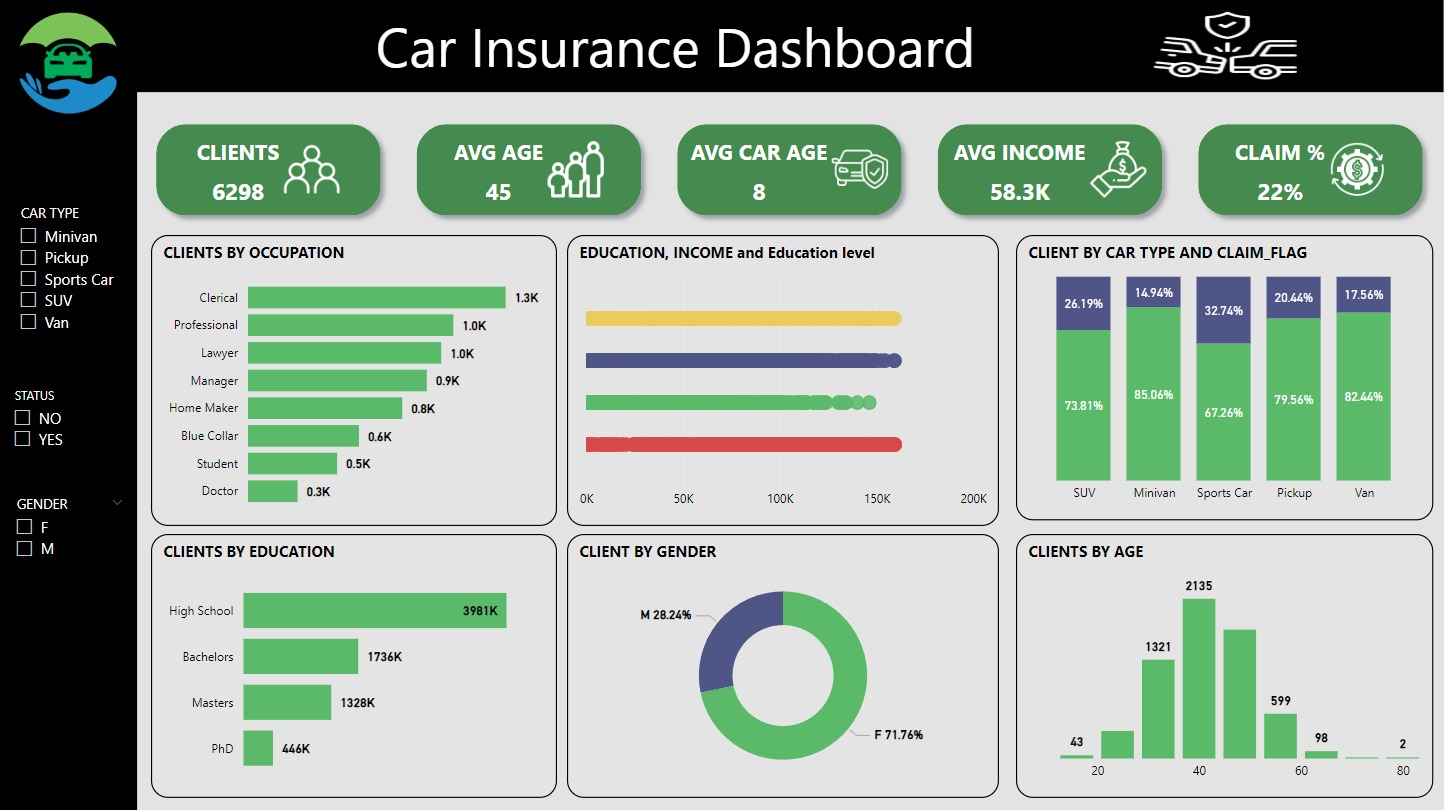

What the dashboard file says about the page in this screenshot:
{"tool":"powerbi","page":{"name":"Page 1","canvas":[1280,720],"ordinal":0},"visuals":[{"type":"shape","box":[0,0,121.6,719.8],"z":0},{"type":"shape","box":[0,0,1280,81.7],"z":1000},{"type":"slicer","fields":{"Values":["Sheet1.GENDER"]},"box":[1.8,433.6,119.7,79.8],"z":2000},{"type":"cardVisual","fields":{"Data":["CountNonNull(Sheet1.ID)","Avg(Sheet1.AGE)","Avg(Sheet1.CAR_AGE)","Avg(Sheet1.INCOME)","_measures.claim count %"]},"box":[121.5,93.1,1158,115.3],"z":3000},{"type":"slicer","fields":{"Values":["Sheet1.CAR_TYPE"]},"box":[5.3,175.6,110,133.9],"z":4000},{"type":"columnChart","title":"CLIENTS BY AGE","fields":{"Category":["Sheet1.AGE (bins)"],"Y":["CountNonNull(Sheet1.ID)"]},"box":[900.9,473.5,369.8,234.1],"z":5000},{"type":"clusteredBarChart","title":"CLIENTS BY OCCUPATION","fields":{"Category":["Sheet1.OCCUPATION"],"Y":["CountNonNull(Sheet1.ID)"]},"box":[133.9,208.4,360,258],"z":6000},{"type":"barChart","title":" CLIENTS BY EDUCATION","fields":{"Category":["Sheet1.EDUCATION"],"Y":["Sum(Sheet1.CLM_AMT)"]},"box":[133.9,473.5,360,234.1],"z":7000},{"type":"scatterChart","fields":{"X":["Sheet1.INCOME"],"Y":["Sheet1.Education level"],"Series":["Sheet1.EDUCATION"]},"box":[502.8,208.4,383.1,258],"z":8000},{"type":"hundredPercentStackedColumnChart","title":"CLIENT BY CAR TYPE AND CLAIM_FLAG","fields":{"Y":["CountNonNull(Sheet1.ID)"],"Series":["Sheet1.CLAIM_FLAG"],"Category":["Sheet1.CAR_TYPE"]},"box":[900.9,208.4,369.8,252.7],"z":9000},{"type":"donutChart","title":"CLIENT BY GENDER","fields":{"Category":["Sheet1.GENDER"],"Y":["_measures.Claim_Count"]},"box":[502.8,473.5,383.1,234.1],"z":10000},{"type":"slicer","fields":{"Values":["Sheet1.MSTATUS"]},"box":[0,337.8,121.5,86.9],"z":11000},{"type":"shape","box":[330.7,0,541.8,71.8],"z":12000},{"type":"image","box":[0,0,121.5,111.7],"z":13000},{"type":"image","box":[1017.9,4.4,136.6,71.8],"z":13001}]}

Visuals, with their boxes in screenshot pixels (x1, y1, x2, y2), scaled from the page's 1280x720 canvas onto the 1444x810 screenshot:
shape: l=0, t=0, r=137, b=809
shape: l=0, t=0, r=1443, b=92
slicer - Sheet1.GENDER: l=2, t=488, r=137, b=578
cardVisual - CountNonNull(Sheet1.ID) x Avg(Sheet1.AGE): l=137, t=105, r=1443, b=234
slicer - Sheet1.CAR_TYPE: l=6, t=198, r=130, b=348
"CLIENTS BY AGE" columnChart: l=1016, t=533, r=1434, b=796
"CLIENTS BY OCCUPATION" clusteredBarChart: l=151, t=234, r=557, b=525
" CLIENTS BY EDUCATION" barChart: l=151, t=533, r=557, b=796
scatterChart - Sheet1.INCOME x Sheet1.Education level: l=567, t=234, r=999, b=525
"CLIENT BY CAR TYPE AND CLAIM_FLAG" hundredPercentStackedColumnChart: l=1016, t=234, r=1434, b=519
"CLIENT BY GENDER" donutChart: l=567, t=533, r=999, b=796
slicer - Sheet1.MSTATUS: l=0, t=380, r=137, b=478
shape: l=373, t=0, r=984, b=81
image: l=0, t=0, r=137, b=126
image: l=1148, t=5, r=1302, b=86
